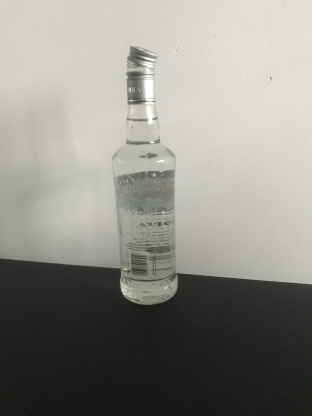nakretka: (125, 43, 158, 104)
